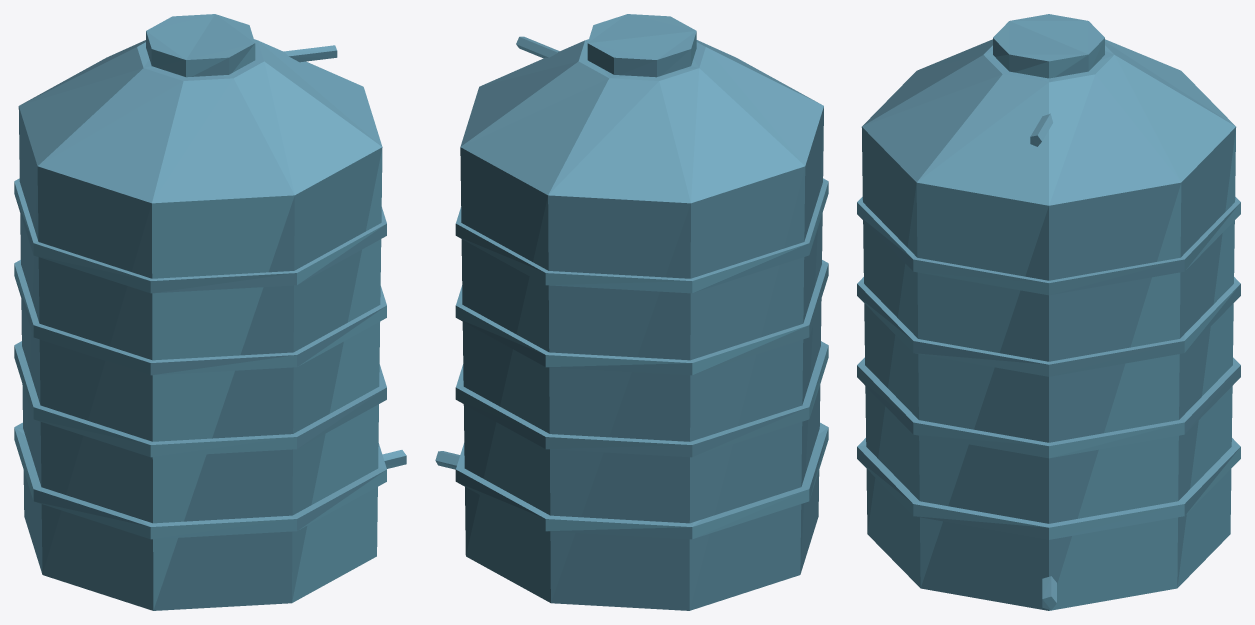
Rendered from polytank-00.glb.
The picture shows the model from 3 angles, left to right: view 1: azimuth 30°, elevation 25°; view 2: azimuth 150°, elevation 25°; view 3: azimuth 270°, elevation 25°; orthographic projection.
Parts seen in each view (by area): view 1: polytank_00; view 2: polytank_00; view 3: polytank_00.
Boxes of the visible parts, x1,y1,x2,y2 form: polytank_00: (14, 14, 406, 610); polytank_00: (435, 14, 828, 610); polytank_00: (857, 14, 1240, 610).
Size of the model in its own units: 1.58 by 2.04 by 1.43.
